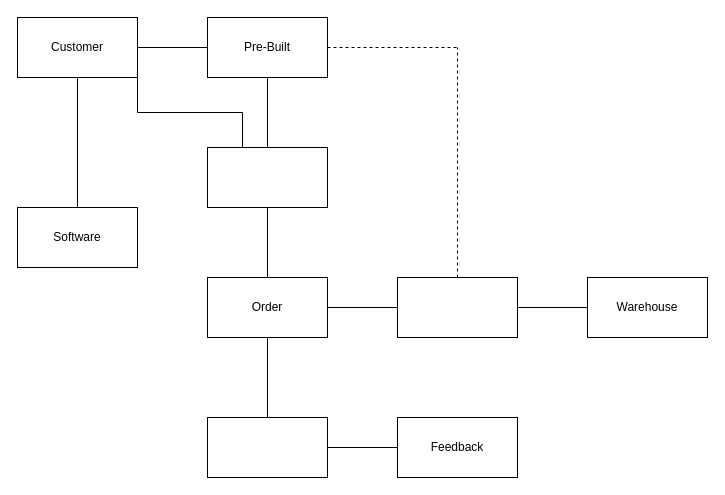
Image size: 725x495. Some labels were removed from this diagram. Here are the shapes that lost their labels. From the top down, the centre of each, then its label:
At (267,177): "Find Parts".
At (457,307): "Supplier".
At (267,447): "Delivery".
